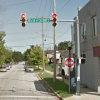Traffic light: (19, 0, 60, 31)
